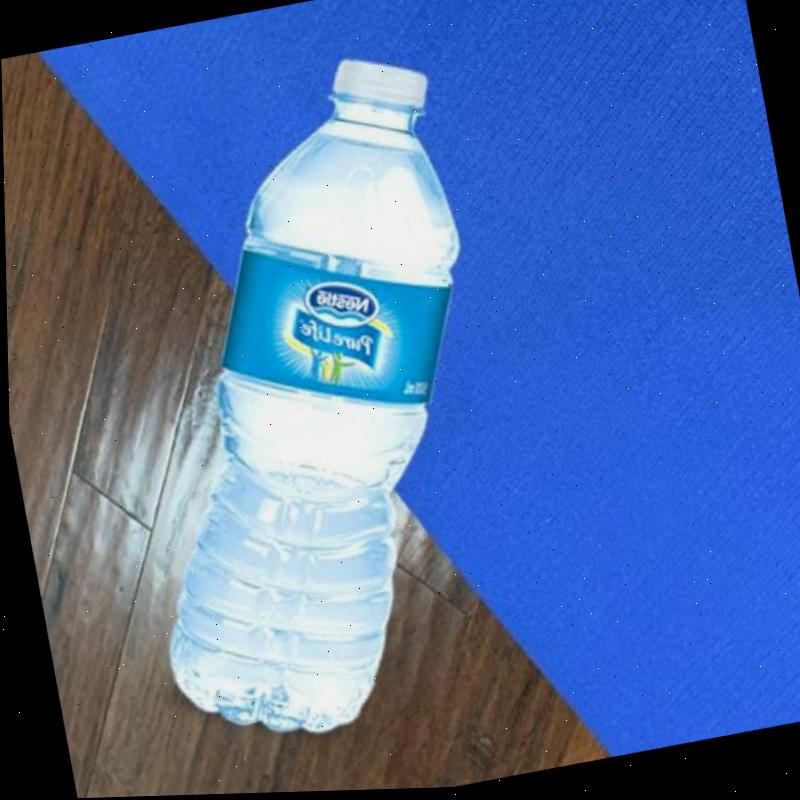botella: (68, 41, 541, 765)
